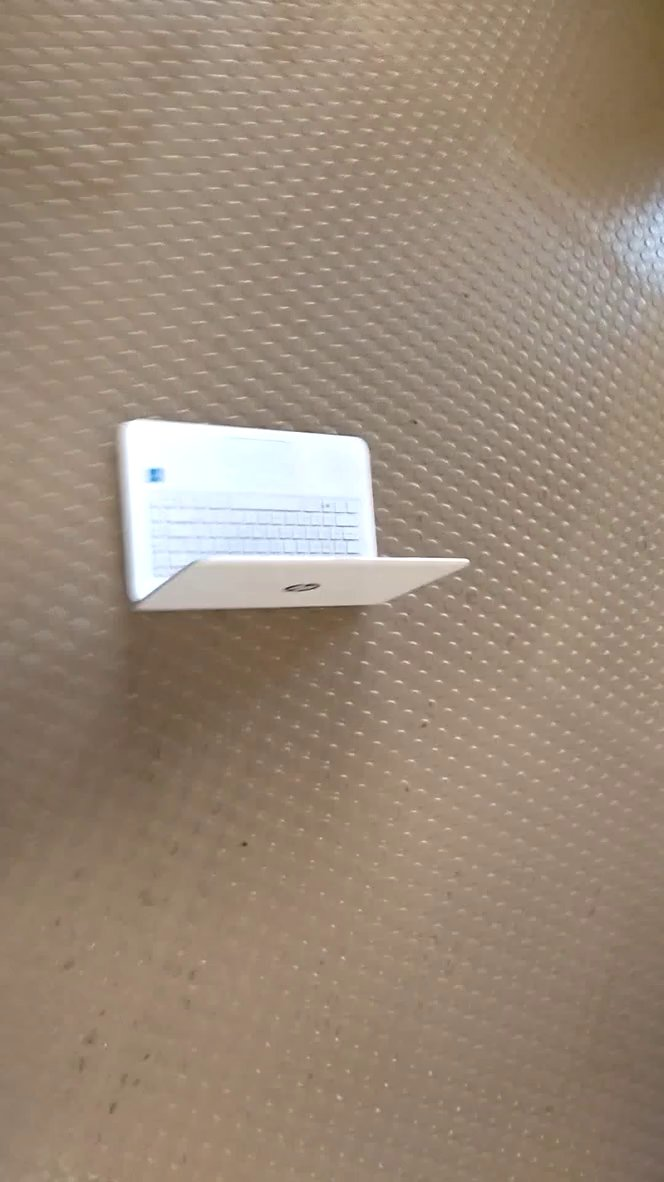laptop: (107, 408, 482, 629)
